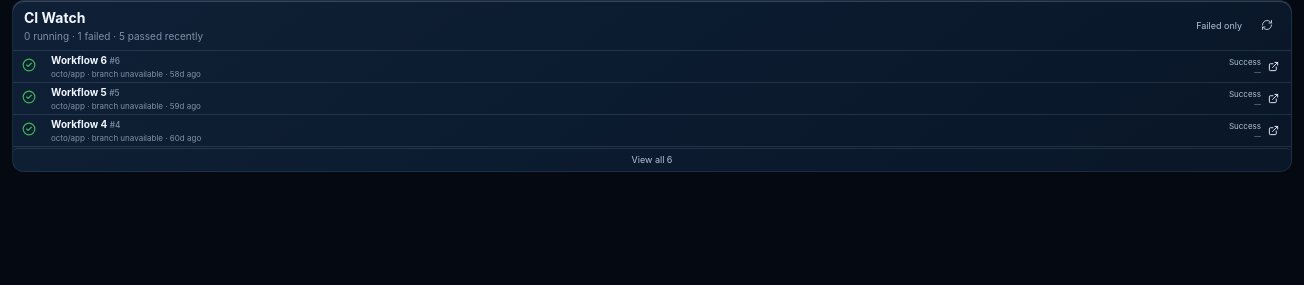
CIWatcherPanel › keeps the compact status strip to three rows until explicitly expanded
The width and height of the screenshot is (1304, 285).
Expected: the number of buttons with class "ci-run" is 3, x1=13 y1=51 x2=1291 y2=83; x1=13 y1=83 x2=1291 y2=115; x1=13 y1=115 x2=1291 y2=147
Click the button "View all 6". click: point(652, 159)
box: x1=13 y1=148 x2=1291 y2=170
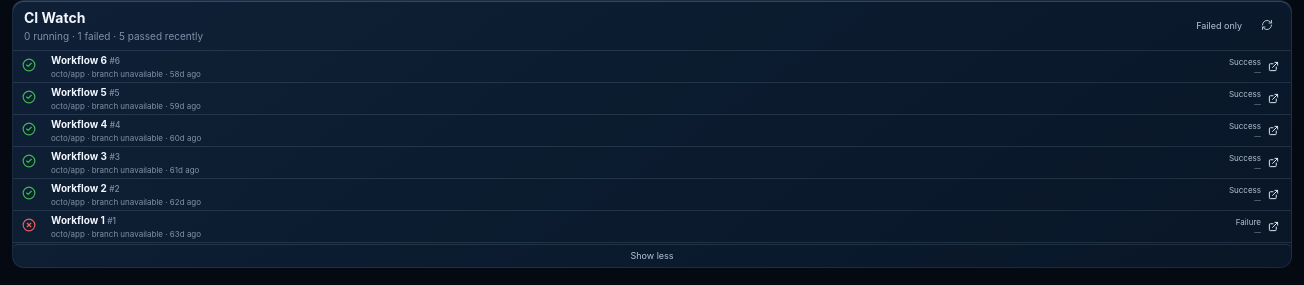
Now the number of buttons with class "ci-run" is 6, box x1=13 y1=51 x2=1291 y2=83; x1=13 y1=83 x2=1291 y2=115; x1=13 y1=115 x2=1291 y2=147; x1=13 y1=147 x2=1291 y2=179; x1=13 y1=179 x2=1291 y2=211; x1=13 y1=211 x2=1291 y2=243
Now the button "Show less" is expanded, box x1=13 y1=244 x2=1291 y2=266
